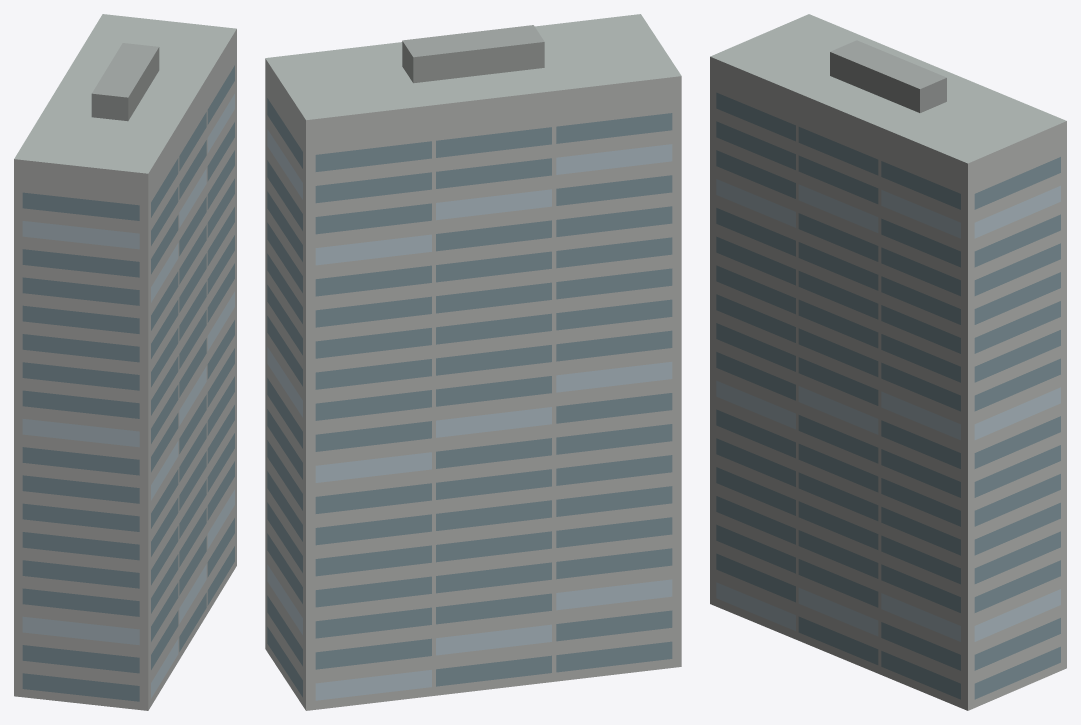
The model's file is fallback-raemian-blesstige-220.glb.
The picture shows the model from 3 angles, left to right: view 1: azimuth 30°, elevation 25°; view 2: azimuth 150°, elevation 25°; view 3: azimuth 270°, elevation 25°; orthographic projection. The views are drawn at different scales.
Visible parts, largest first — view 1: fallback-raemian-blesstige-220; view 2: fallback-raemian-blesstige-220; view 3: fallback-raemian-blesstige-220.
Boxes of the visible parts, left/top/right/bottom form: fallback-raemian-blesstige-220: left=14, top=14, right=236, bottom=710; fallback-raemian-blesstige-220: left=265, top=14, right=681, bottom=710; fallback-raemian-blesstige-220: left=710, top=14, right=1066, bottom=710.
Bounding box in the file's own units: 32 × 57 × 32.26.
